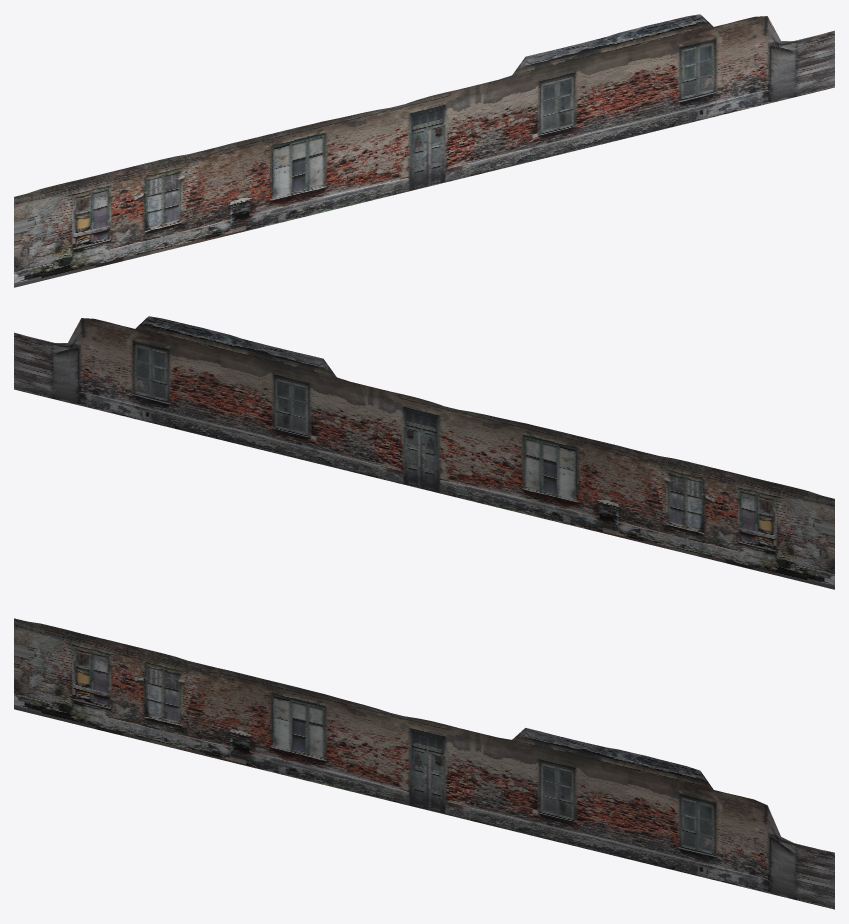
The model's file is long_house.glb.
3 views of the same model, one above another, from view 1: azimuth 30°, elevation 25°; view 2: azimuth 150°, elevation 25°; view 3: azimuth 330°, elevation 25° (orthographic).
Visible parts, largest first — view 1: long_house; view 2: long_house; view 3: long_house.
Part boxes in pixels (<box>): long_house: <box>14,14,834,287</box>; long_house: <box>14,316,834,589</box>; long_house: <box>14,618,834,909</box>.
Bounding box in the file's own units: 29.52 × 3.7 × 0.
1 material, 1 textured.
